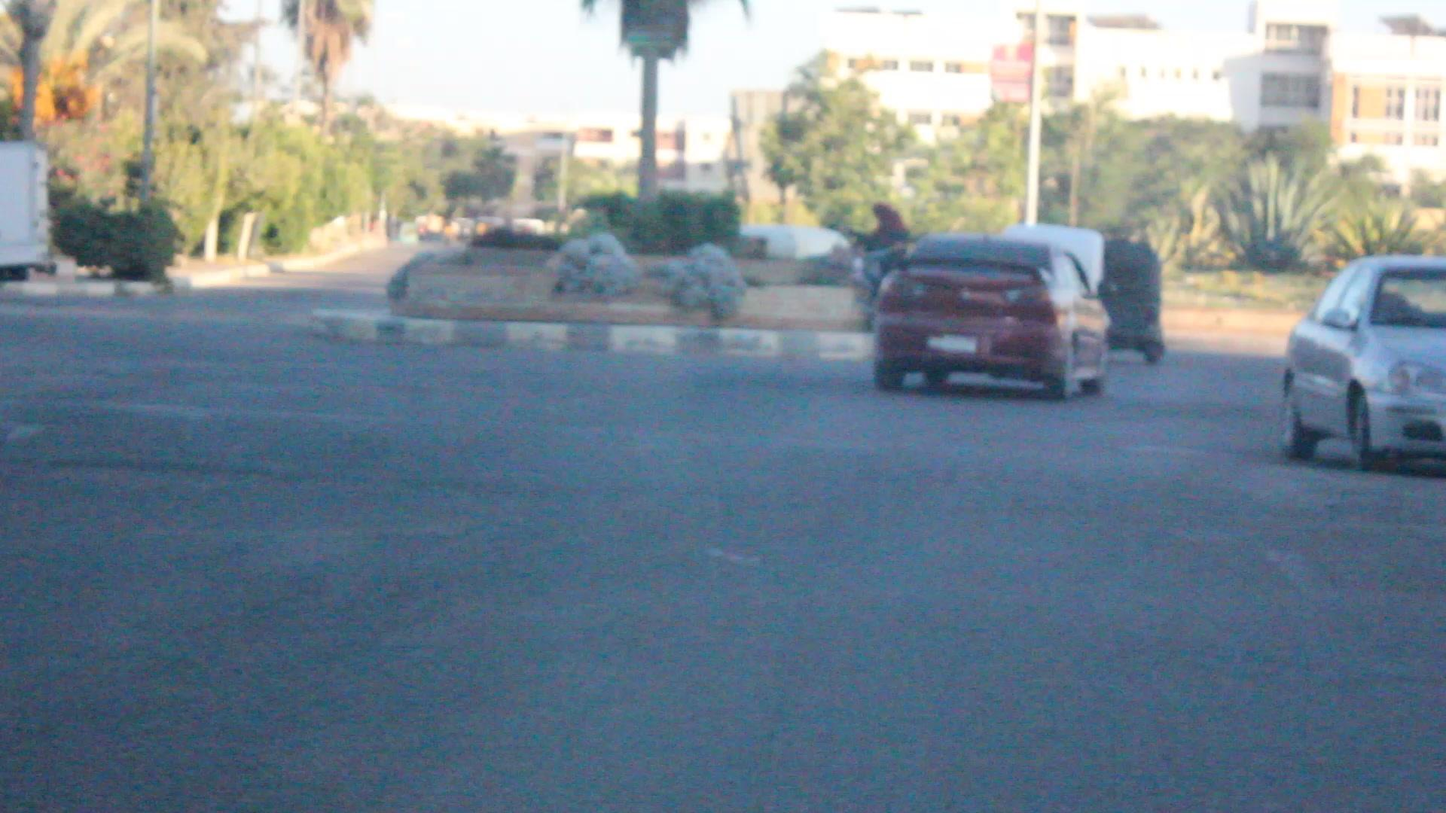Bump: (0, 396, 1445, 537)
